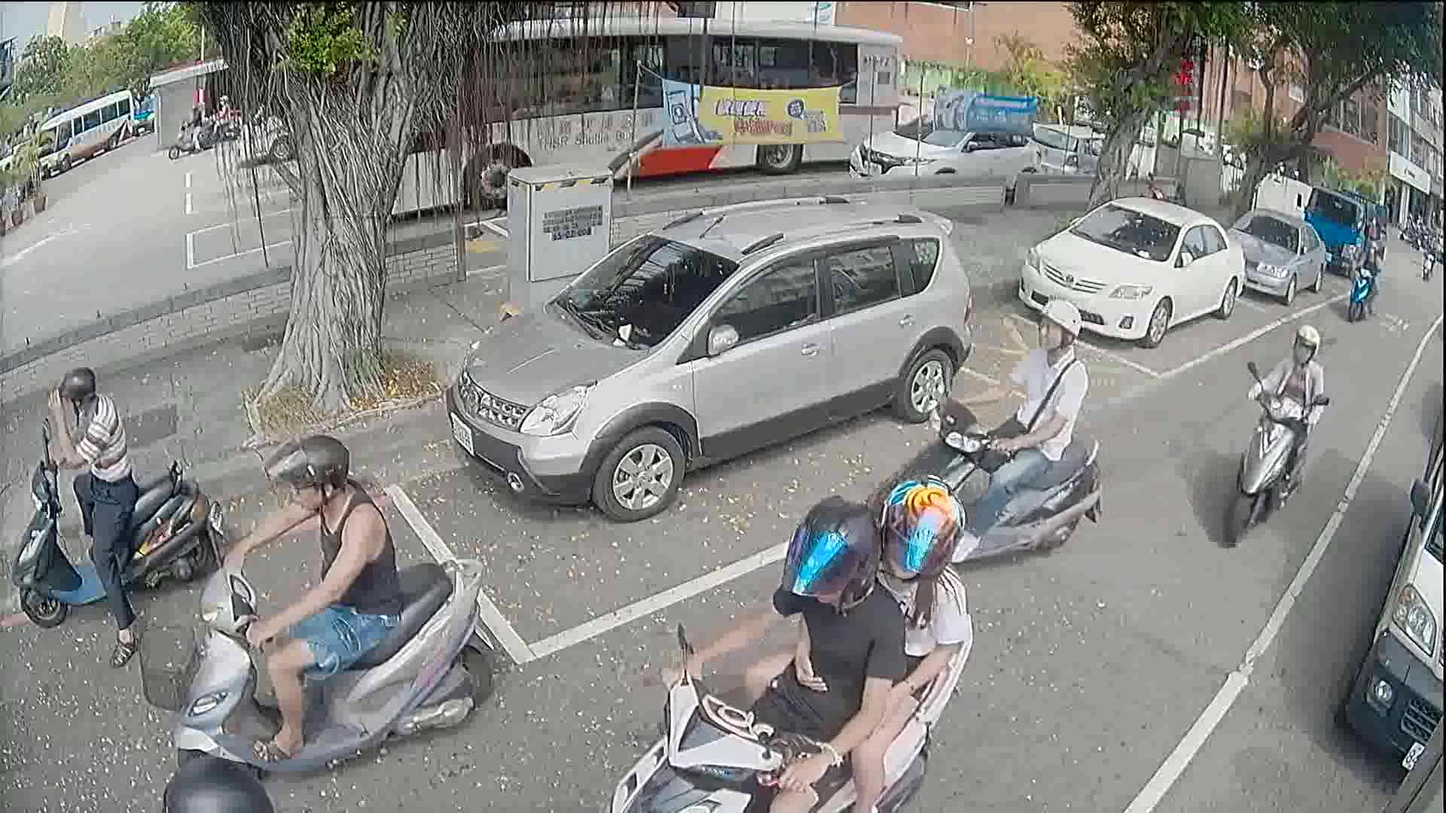person: (737, 470, 984, 812), (639, 501, 904, 812), (214, 423, 403, 769), (938, 288, 1098, 574), (41, 370, 139, 660), (1240, 327, 1327, 506), (161, 747, 276, 811), (1355, 240, 1380, 310), (182, 104, 200, 151)
